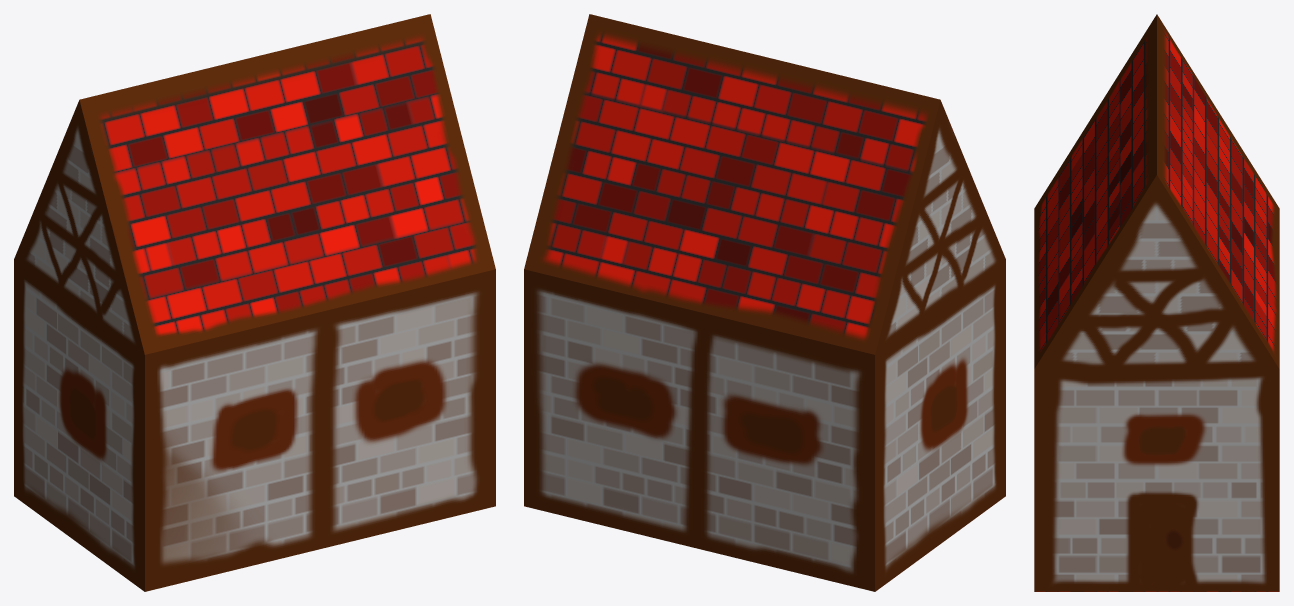
Rendered from house.fbx.
3 views of the same model, side by side, from view 1: azimuth 30°, elevation 25°; view 2: azimuth 150°, elevation 25°; view 3: azimuth 270°, elevation 25° (orthographic). The views are drawn at different scales.
Visible parts, largest first — view 1: Cube.001; view 2: Cube.001; view 3: Cube.001.
Boxes of the visible parts, x1=… form: Cube.001: x1=14, y1=14, x2=495, y2=591; Cube.001: x1=524, y1=14, x2=1005, y2=591; Cube.001: x1=1034, y1=14, x2=1279, y2=591.
Size of the model in its own units: 310 by 375 by 200.
1 material, 1 textured.
